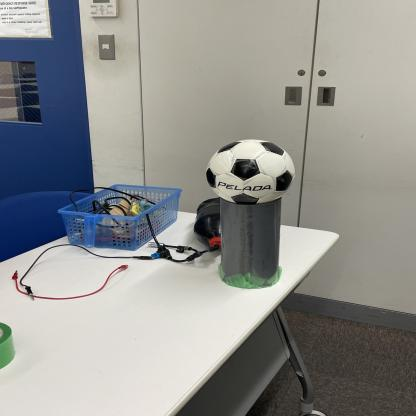ball: (204, 138, 294, 202)
